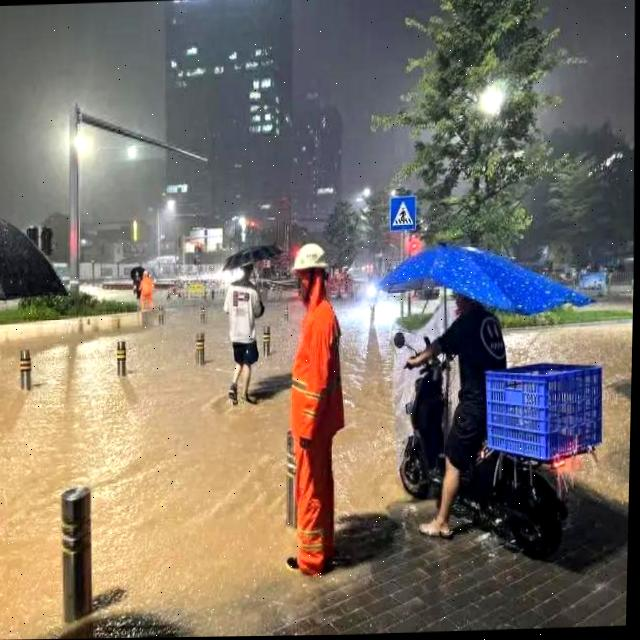civilian: (406, 282, 508, 557), (216, 255, 265, 424)
rescuer: (274, 243, 352, 586), (136, 269, 161, 313)
